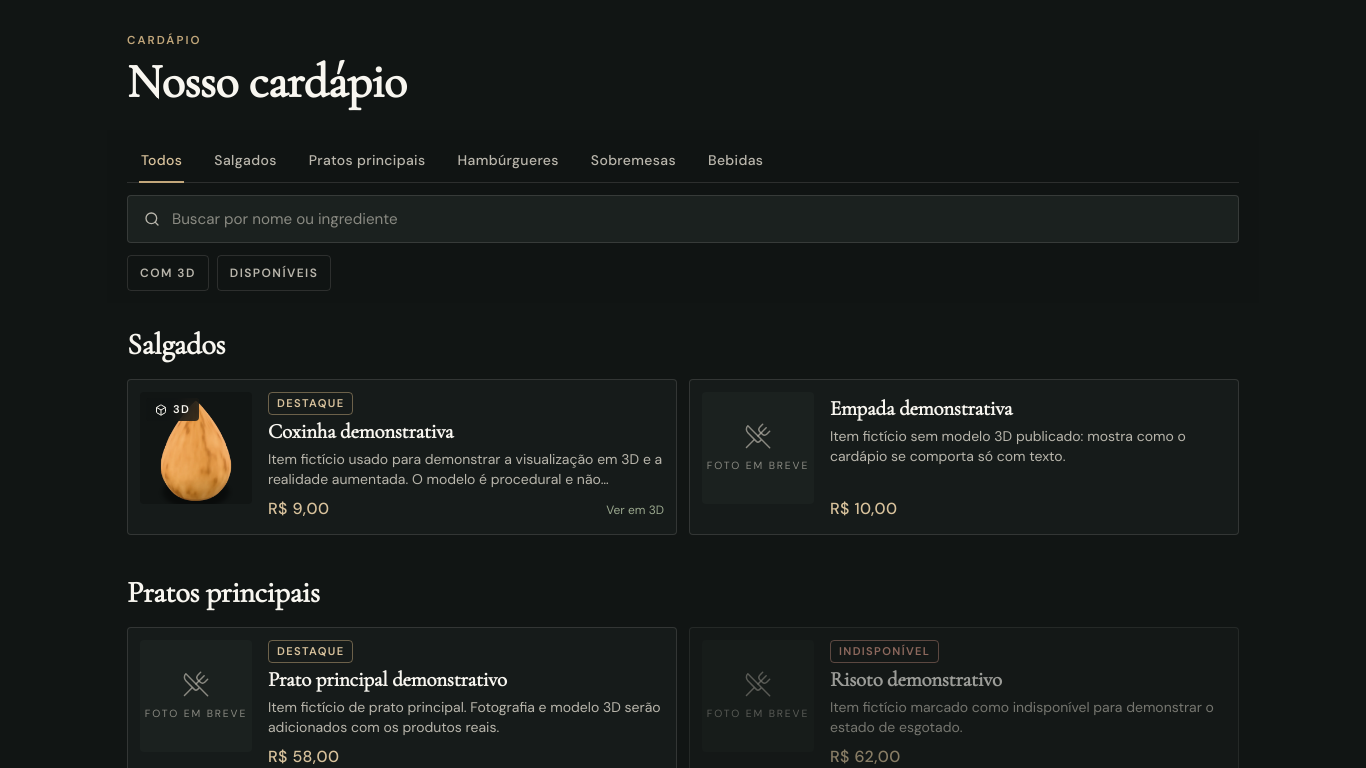
Test: cardápio › filtra por categoria
The width and height of the screenshot is (1366, 768).
Click the button "Sobremesas" at (633, 160), box [577,138,690,182]
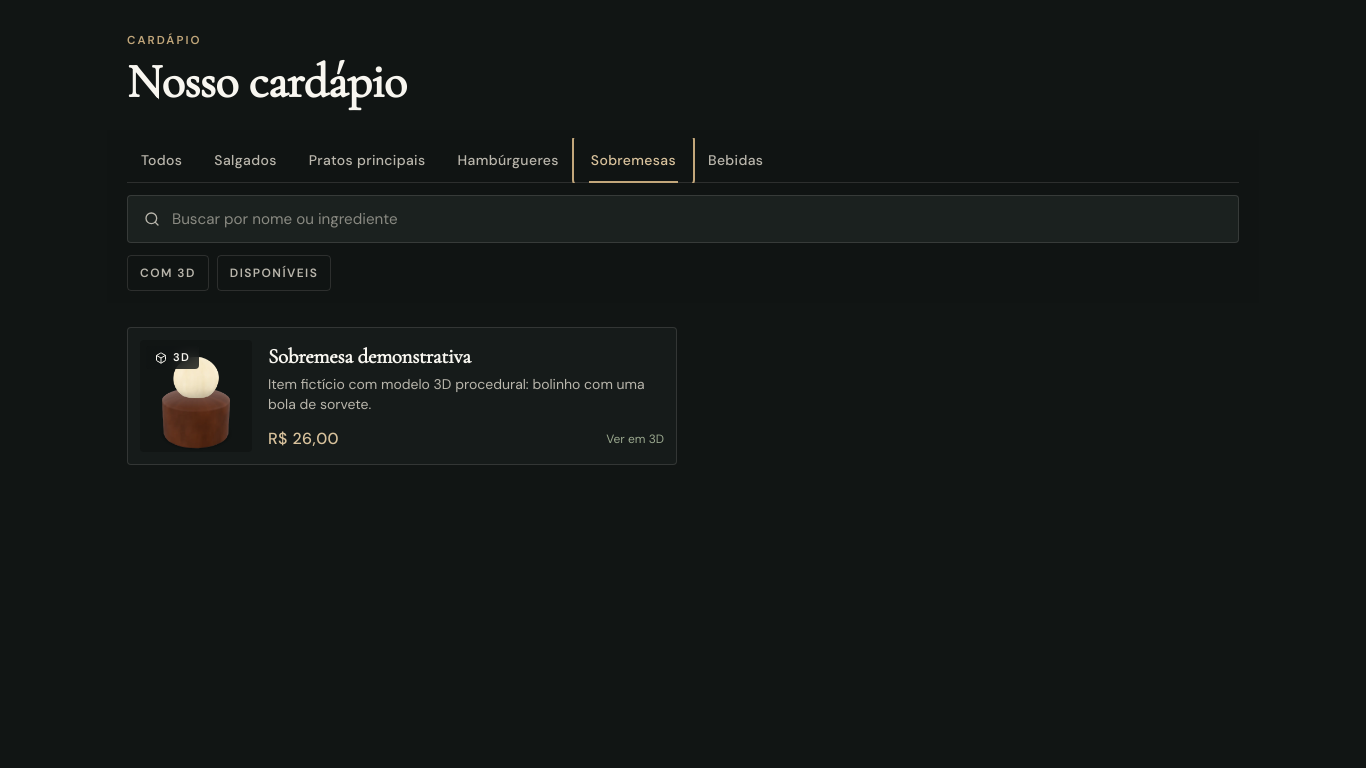
Expected: the link "Sobremesa demonstrativa" is shown, [127,327,677,465]
Expected: the link "Coxinha demonstrativa" is gone
